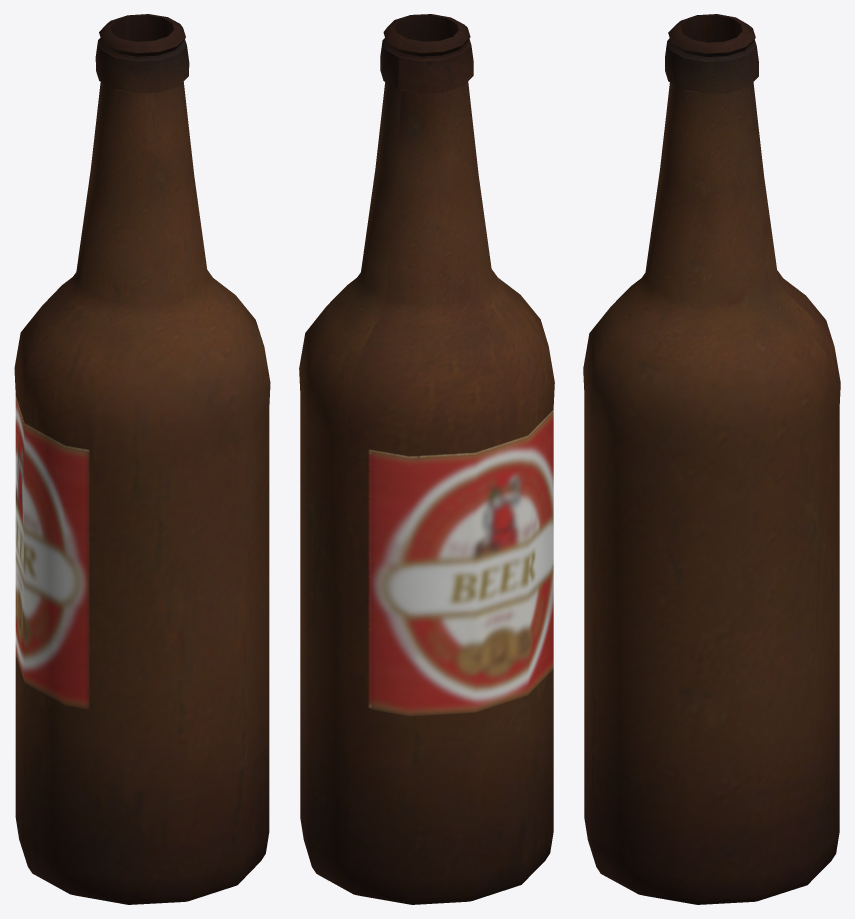
Rendered from Beer.FBX.
3 views of the same model, side by side, from view 1: azimuth 30°, elevation 25°; view 2: azimuth 150°, elevation 25°; view 3: azimuth 270°, elevation 25° (orthographic).
Parts seen in each view (by area): view 1: Beer; view 2: Beer; view 3: Beer.
Part boxes in pixels (x1,y1,x2,y2): Beer: (14,14,270,904); Beer: (299,14,554,904); Beer: (583,14,840,904).
Bounding box in the file's own units: 15.03 × 53.92 × 15.17.
1 material, 1 textured.
